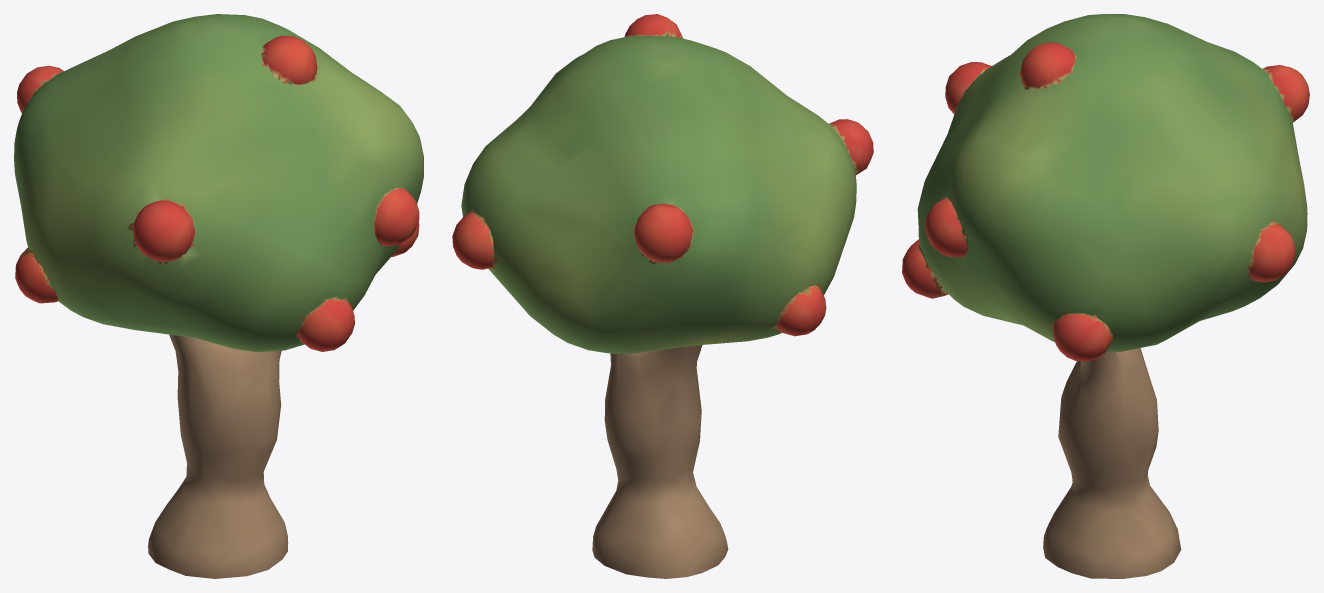
File: fruit-tree_fast.glb
3 renders of one model, left to right at view 1: azimuth 30°, elevation 25°; view 2: azimuth 150°, elevation 25°; view 3: azimuth 270°, elevation 25°, orthographic. The views are drawn at different scales.
Visible parts, largest first — view 1: fruit_crown, body; view 2: fruit_crown, body; view 3: fruit_crown, body.
Part boxes in pixels (box(x1,y1,x2,y2)): fruit_crown: box(14, 14, 423, 352); body: box(148, 334, 288, 578); fruit_crown: box(452, 14, 873, 353); body: box(592, 345, 728, 578); fruit_crown: box(902, 14, 1309, 361); body: box(1043, 348, 1181, 578).
Bounding box in the file's own units: 2.35 × 3.22 × 2.27.
